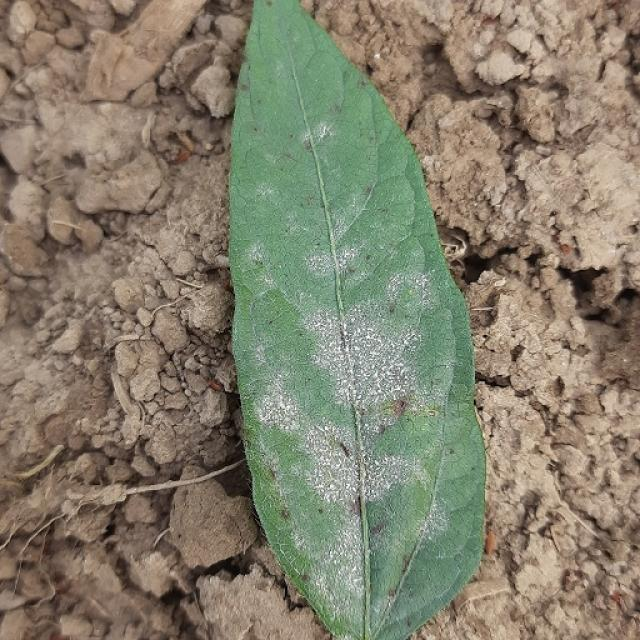Blackgram: (230, 0, 484, 639)
Powdery_Mildew: (252, 239, 451, 627), (312, 279, 430, 423), (296, 414, 416, 511), (363, 445, 425, 504), (302, 239, 366, 285), (256, 378, 306, 433), (254, 376, 300, 431), (302, 121, 335, 148), (253, 174, 280, 207), (264, 53, 290, 81), (471, 41, 488, 59), (373, 52, 381, 60)
